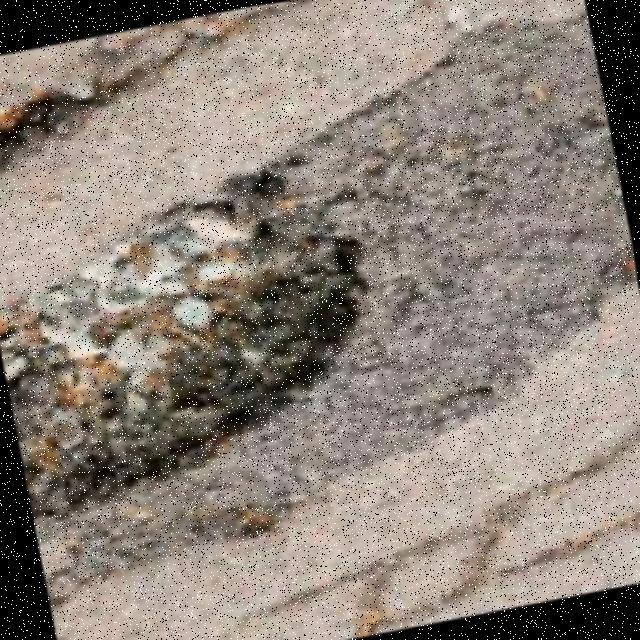Pothole: (0, 151, 367, 518), (0, 1, 291, 173)
